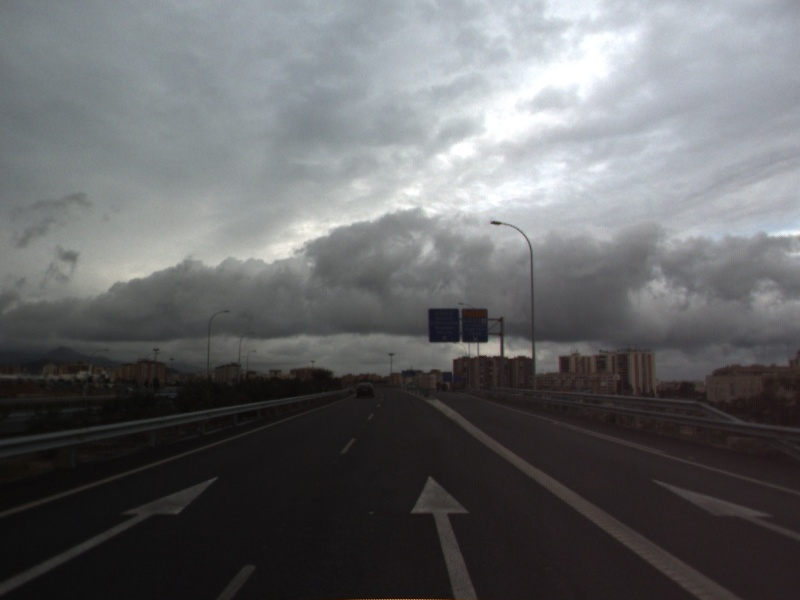STRAIGHT: (1, 472, 223, 595), (646, 475, 800, 540), (406, 470, 483, 600)
